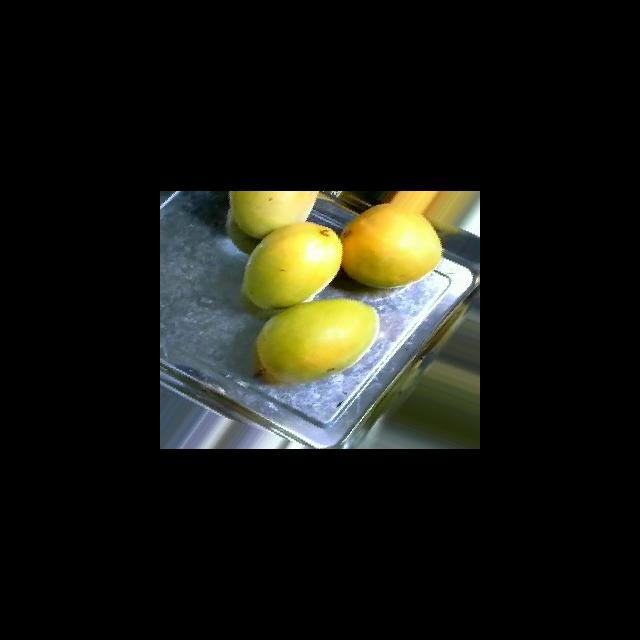mango: (255, 297, 380, 384), (241, 221, 343, 309), (339, 202, 442, 288), (228, 191, 319, 239)
